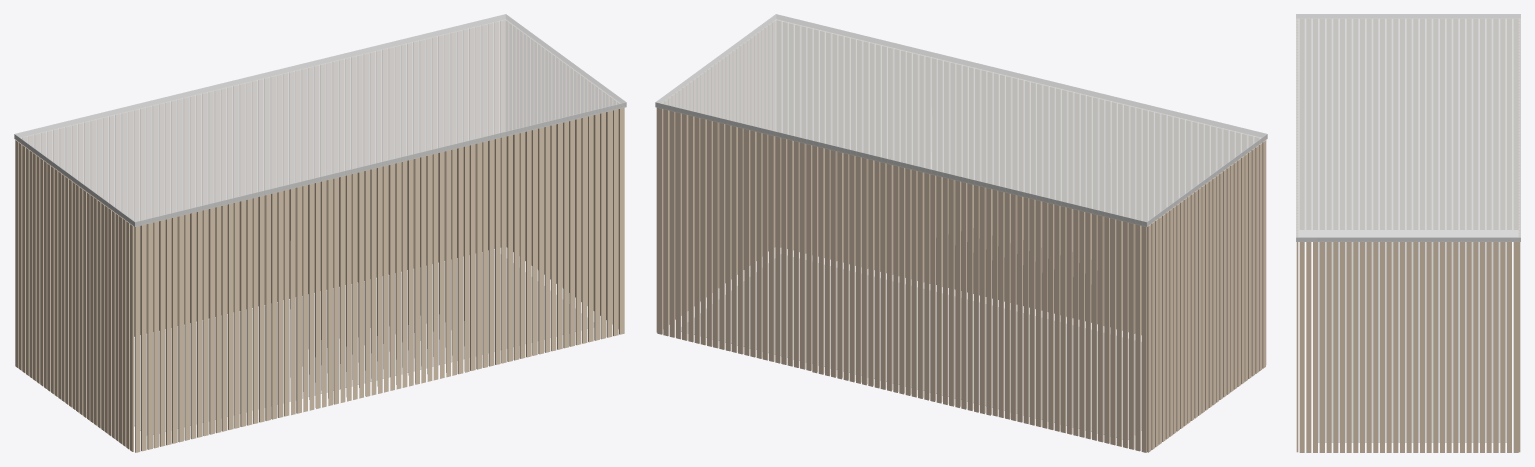
3 renders of one model, left to right at view 1: azimuth 30°, elevation 25°; view 2: azimuth 150°, elevation 25°; view 3: azimuth 270°, elevation 25°, orthographic. The views are drawn at different scales.
Visible parts, largest first — view 1: Node1, Node1307, Node5, Node9, Node11, Node857, Node724, Node760, Node816, Node866, Node880, Node949 (+107 smaller); view 2: Node1, Node1307, Node7, Node11, Node9, Node1122, Node1140, Node1201, Node1187, Node1204, Node1125, Node1162 (+107 smaller); view 3: Node1, Node1307, Node12, Node18, Node136, Node319, Node327, Node340, Node344, Node357, Node366, Node370 (+62 smaller).
Boxes of the visible parts, x1,y1,x2,y2 form: Node1: (15,14,625,221); Node1307: (134,249,594,434); Node5: (135,102,626,226); Node9: (136,103,624,225); Node11: (17,15,504,136); Node857: (371,168,376,395); Node724: (309,183,314,410); Node760: (365,170,370,396); Node816: (340,176,345,402); Node866: (396,162,401,389); Node880: (402,161,407,387); Node949: (433,153,438,380); Node1: (656,14,1266,221); Node1307: (681,254,1141,439); Node7: (655,102,1146,226); Node11: (657,103,1145,225); Node9: (777,15,1264,136); Node1122: (818,147,823,374); Node1140: (905,168,910,395); Node1201: (936,176,941,403); Node1187: (880,162,885,389); Node1204: (843,153,848,380); Node1125: (967,183,972,410); Node1162: (911,170,916,397); Node1: (1296,14,1520,237); Node1307: (1318,242,1506,442); Node12: (1299,242,1304,452); Node18: (1500,242,1505,452); Node136: (1366,242,1371,452); Node319: (1426,242,1431,452); Node327: (1353,242,1358,452); Node340: (1453,242,1458,452); Node344: (1333,242,1338,452); Node357: (1446,242,1451,452); Node366: (1373,242,1378,452); Node370: (1473,242,1478,452).
Size of the model in its own units: 250 by 112 by 106.
